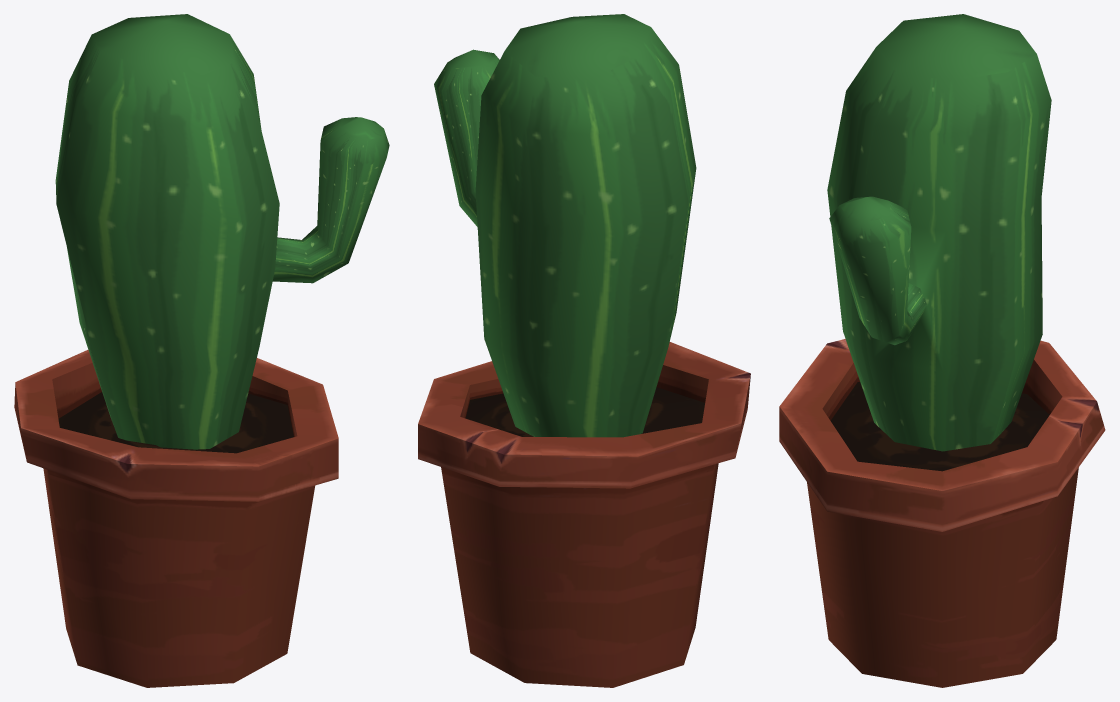
File: SM_PROP_plant_interior_01.fbx
3 renders of one model, left to right at view 1: azimuth 30°, elevation 25°; view 2: azimuth 150°, elevation 25°; view 3: azimuth 270°, elevation 25°, orthographic. The views are drawn at different scales.
Parts seen in each view (by area): view 1: SM_PROP_plant_interior_01; view 2: SM_PROP_plant_interior_01; view 3: SM_PROP_plant_interior_01.
Boxes of the visible parts, x1,y1,x2,y2 form: SM_PROP_plant_interior_01: [14, 14, 389, 687]; SM_PROP_plant_interior_01: [418, 14, 750, 687]; SM_PROP_plant_interior_01: [779, 14, 1105, 687].
Bounding box in the file's own units: 26.24 × 46.8 × 22.63.
